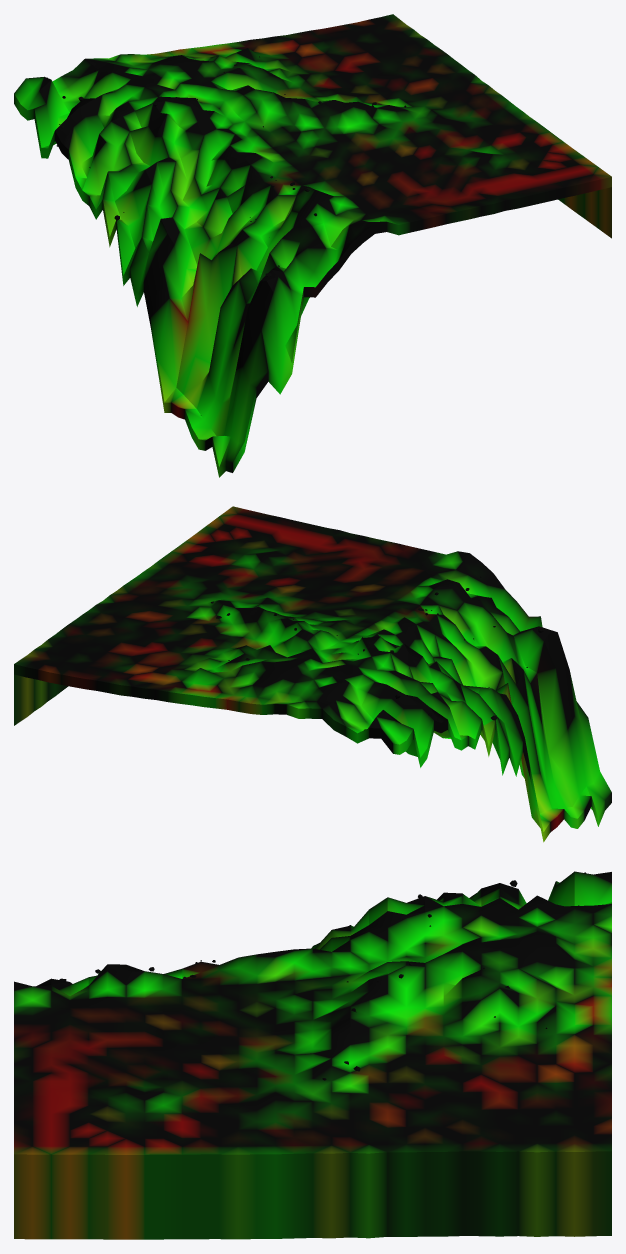
The model's file is Terrain_02_00.fbx.
The picture shows the model from 3 angles, top to bottom: view 1: azimuth 30°, elevation 25°; view 2: azimuth 150°, elevation 25°; view 3: azimuth 270°, elevation 25°; orthographic projection. The views are drawn at different scales.
Visible parts, largest first — view 1: Terrain_02_00_LOD0; view 2: Terrain_02_00_LOD0; view 3: Terrain_02_00_LOD0.
Part boxes in pixels (box(x1,y1,x2,y2)): Terrain_02_00_LOD0: box(14, 14, 611, 477); Terrain_02_00_LOD0: box(14, 506, 611, 842); Terrain_02_00_LOD0: box(14, 871, 611, 1239).
Size of what is drawn, in the model's own units: 386 by 250 by 384.
